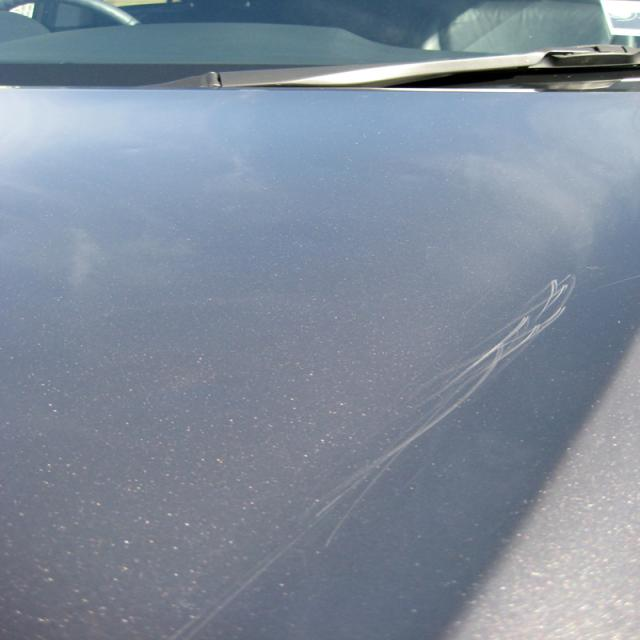scratch: (151, 270, 640, 640)
